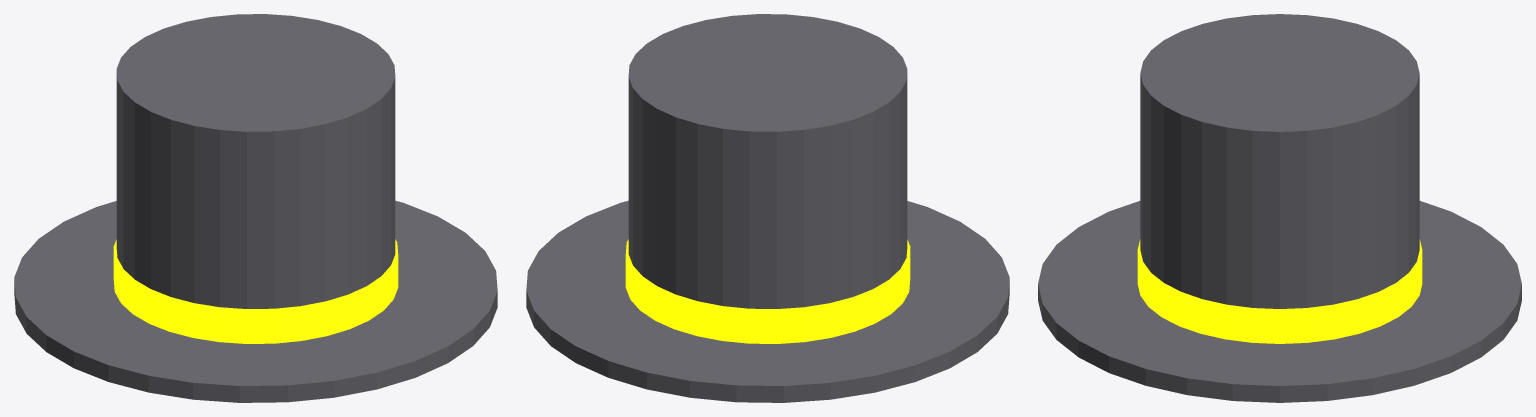
Rendered from SM_Jaxson_AnvilCrown_Hat.glb.
3 views of the same model, side by side, from view 1: azimuth 30°, elevation 25°; view 2: azimuth 150°, elevation 25°; view 3: azimuth 270°, elevation 25° (orthographic).
Visible parts, largest first — view 1: SM_Jaxson_AnvilCrown_Hat; view 2: SM_Jaxson_AnvilCrown_Hat; view 3: SM_Jaxson_AnvilCrown_Hat.
Boxes of the visible parts, box(x1,y1,x2,y2) form: SM_Jaxson_AnvilCrown_Hat: box(14, 14, 497, 402); SM_Jaxson_AnvilCrown_Hat: box(526, 14, 1009, 402); SM_Jaxson_AnvilCrown_Hat: box(1038, 14, 1521, 402).
Size of the model in its own units: 1.04 by 0.54 by 1.04.
